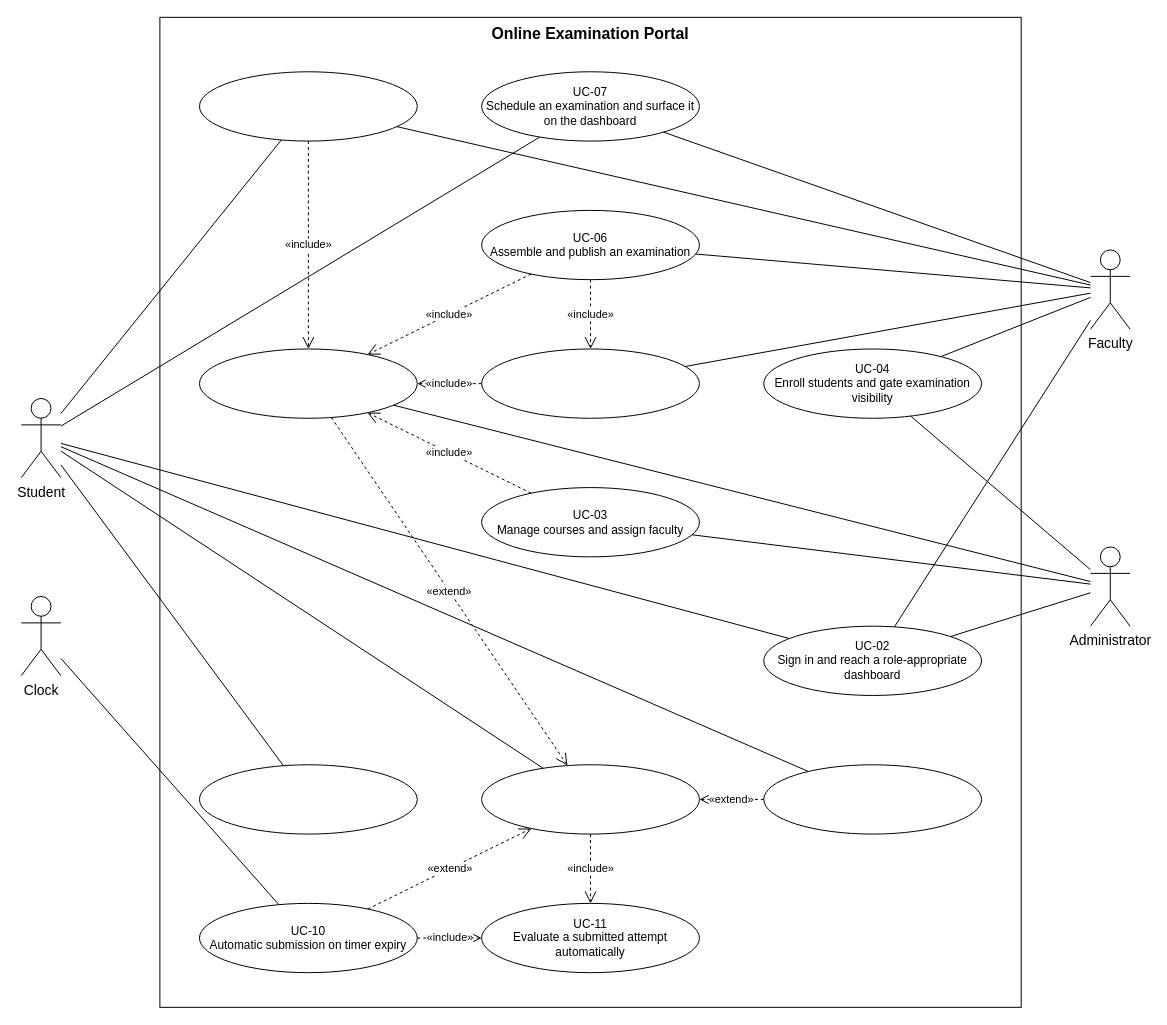
This 1167x1025 diagram has some shape labels left out. Here are the shapes that lost their labels. From the top down, the centre of each, then its label:
the point at 307,106: UC-12 Publish results and display the scorecard
the point at 307,383: UC-13 Log integrity events and maintain the audit trail
the point at 590,383: UC-05 Author and manage question bank entries
the point at 307,799: UC-01 Register a Student account
the point at 590,799: UC-08 Start an attempt and receive the paper
the point at 872,799: UC-09 Autosave and resume after interruption
